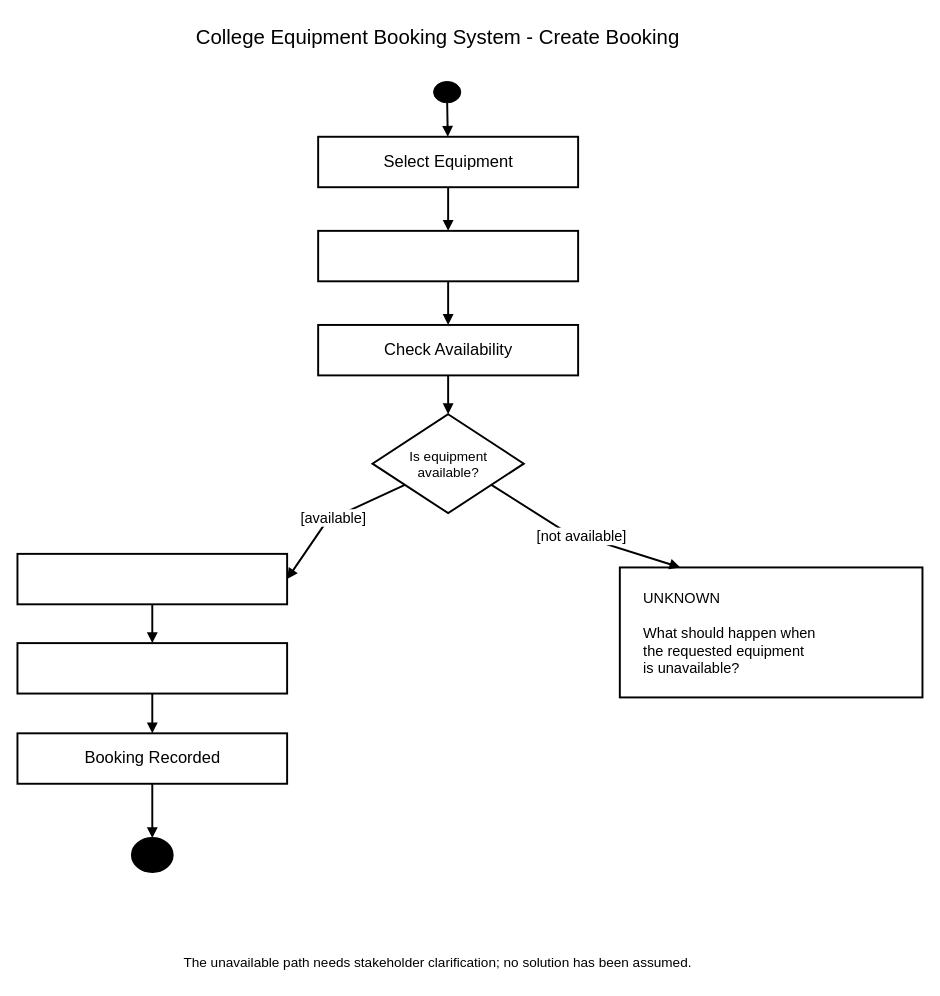
This 940x996 diagram has some shape labels left out. Here are the shapes that lost their labels. From the top down, the centre of each, then its label:
At (x=448, y=255): "Select Date".
At (x=152, y=578): "Enter Booking Details".
At (x=152, y=668): "Submit Booking".
